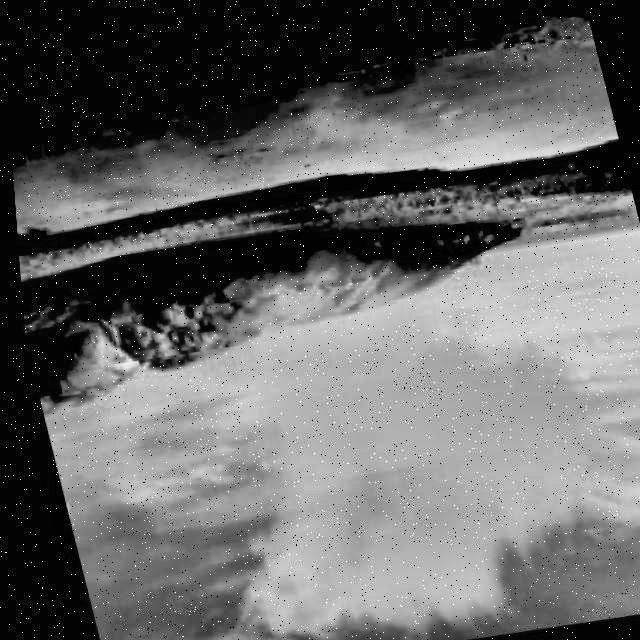Smoke: (138, 188, 640, 640)
